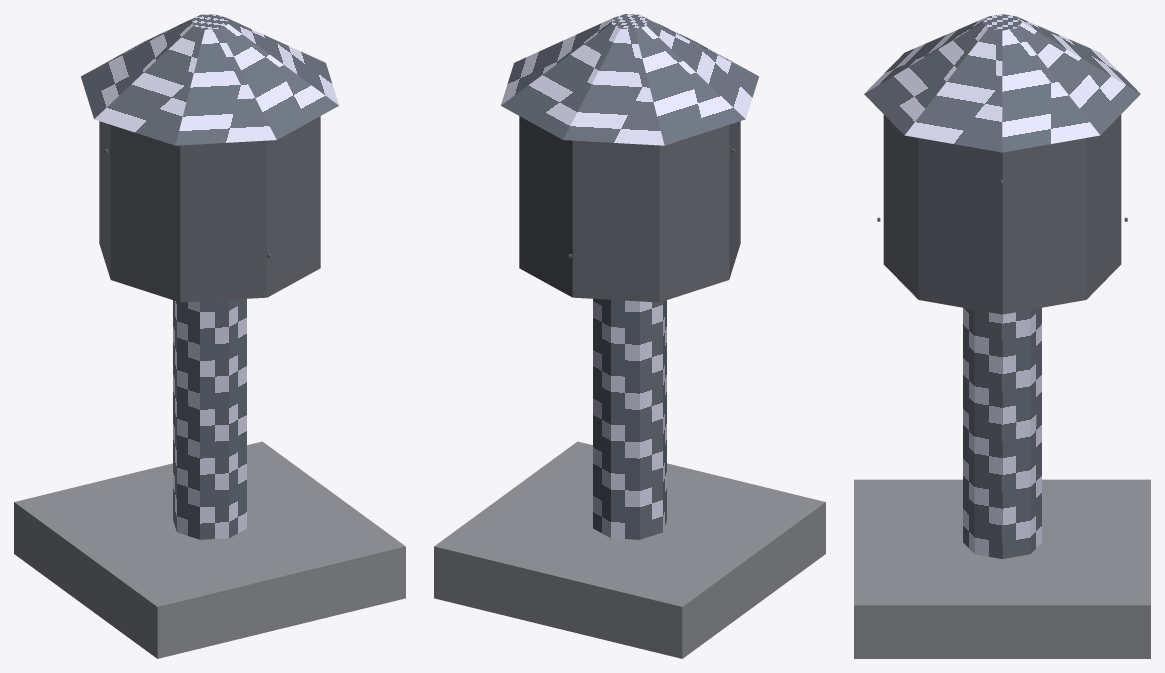
File: frost_lantern.glb
The picture shows the model from 3 angles, left to right: view 1: azimuth 30°, elevation 25°; view 2: azimuth 150°, elevation 25°; view 3: azimuth 270°, elevation 25°; orthographic projection. The views are drawn at different scales.
Visible parts, largest first — view 1: frost_lantern; view 2: frost_lantern; view 3: frost_lantern.
Part boxes in pixels (<box>): frost_lantern: <box>14,14,405,658</box>; frost_lantern: <box>434,14,825,658</box>; frost_lantern: <box>854,14,1150,658</box>.
Size of the model in its own units: 0.3 by 0.64 by 0.3.
Materials: 4 (1 with a texture image).
